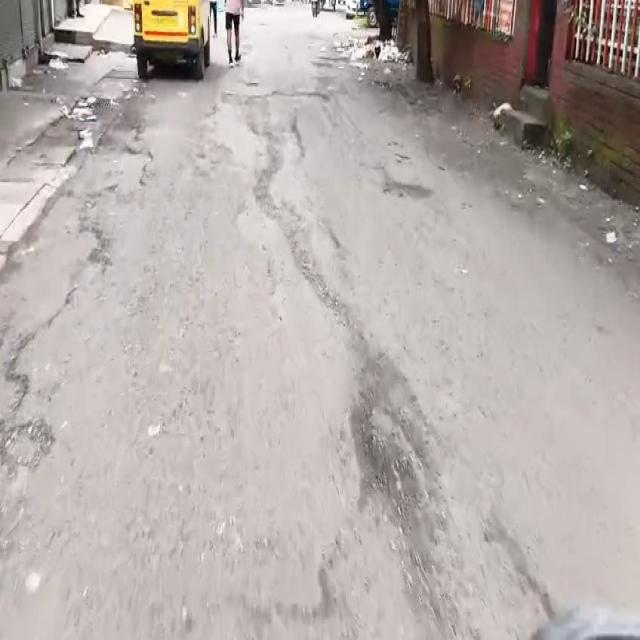road-pothole: (349, 348, 459, 638), (1, 217, 108, 475), (198, 91, 332, 281), (359, 157, 434, 207), (109, 150, 151, 210)
